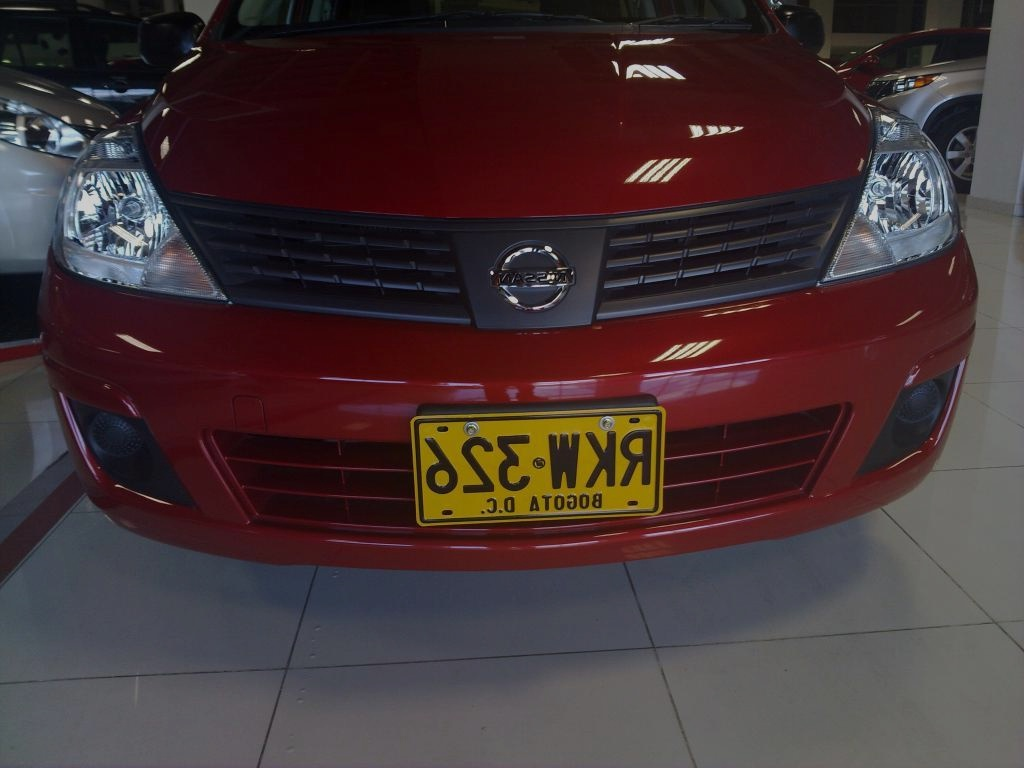placas: (408, 403, 669, 532)
